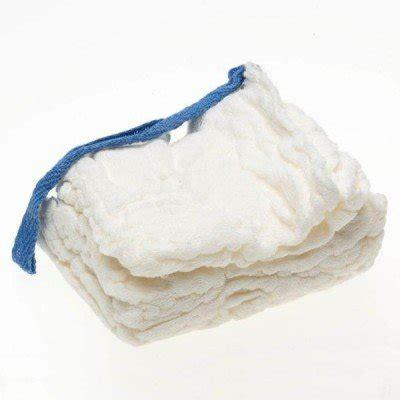cotton: (47, 68, 387, 345)
